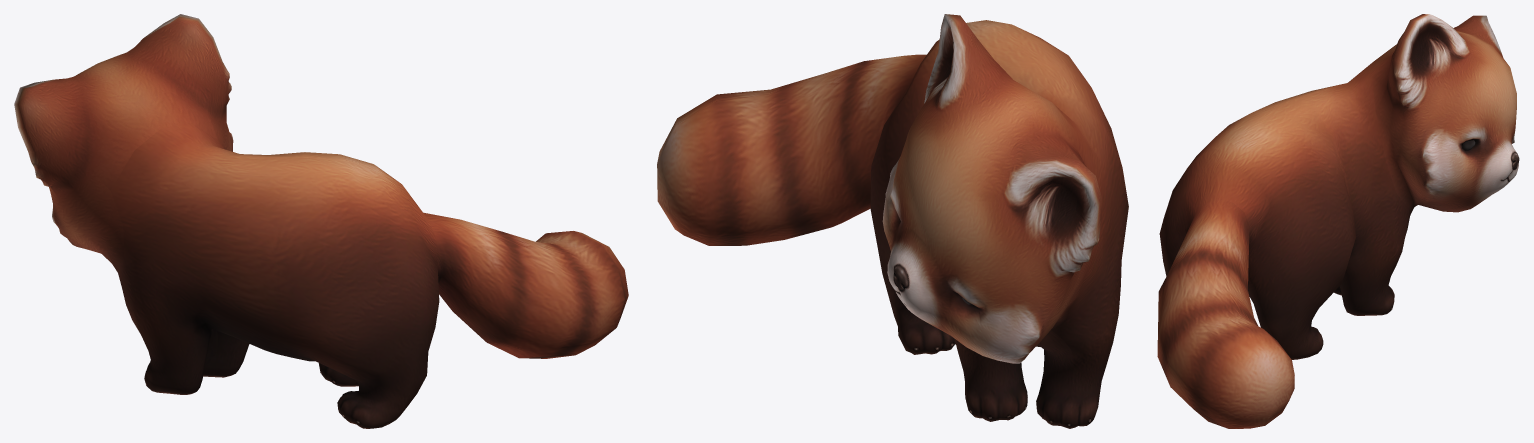
File: redFox2.gltf
3 renders of one model, left to right at view 1: azimuth 30°, elevation 25°; view 2: azimuth 150°, elevation 25°; view 3: azimuth 270°, elevation 25°, orthographic. The views are drawn at different scales.
Visible parts, largest first — view 1: redFox2; view 2: redFox2; view 3: redFox2.
Part boxes in pixels (left/top/right/bottom): redFox2: left=14, top=14, right=628, bottom=428; redFox2: left=657, top=14, right=1128, bottom=428; redFox2: left=1157, top=14, right=1519, bottom=428.
Bounding box in the file's own units: 1.65 × 1.12 × 1.22.
1 material, 1 textured.
